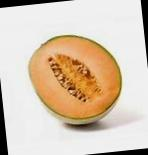Melon Ripe: (24, 28, 126, 130)
